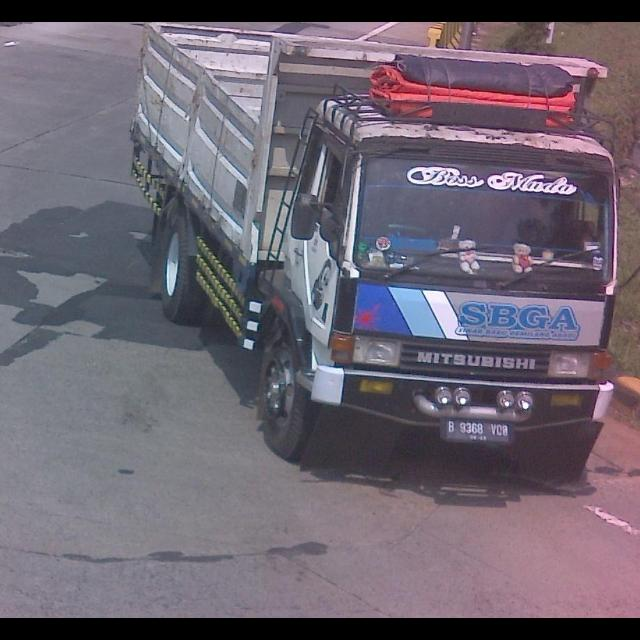plate: (442, 413, 516, 444)
